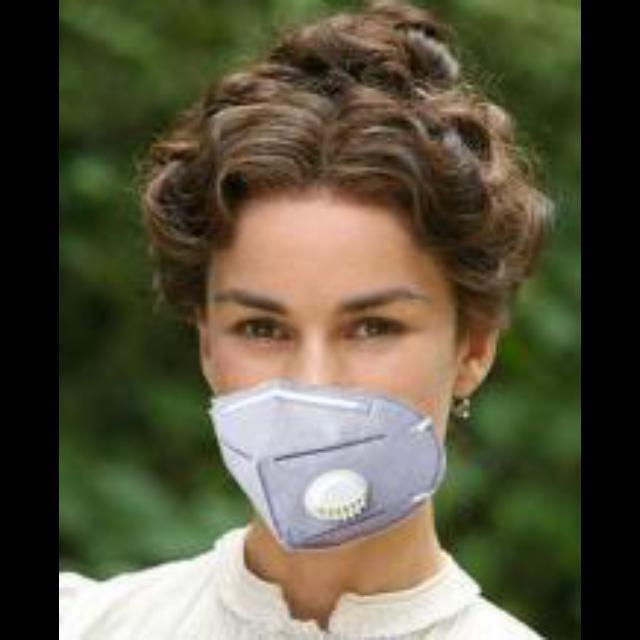1_mascarilla: (203, 375, 452, 560)
